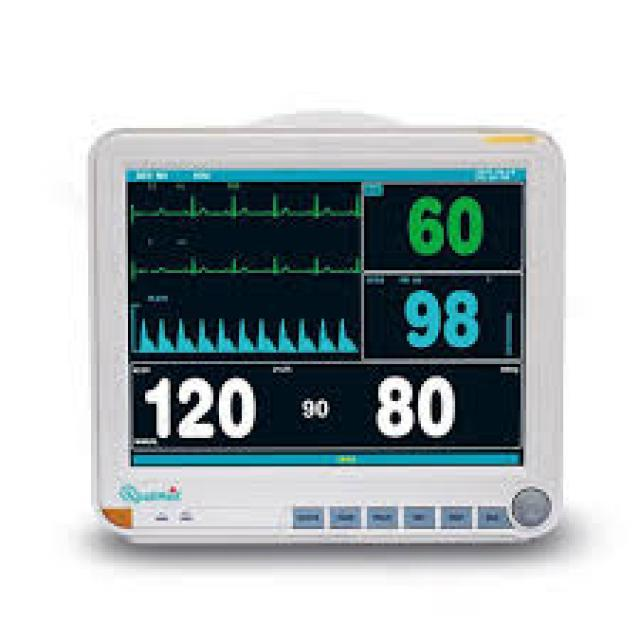cardiac_monitor: (96, 146, 560, 540)
